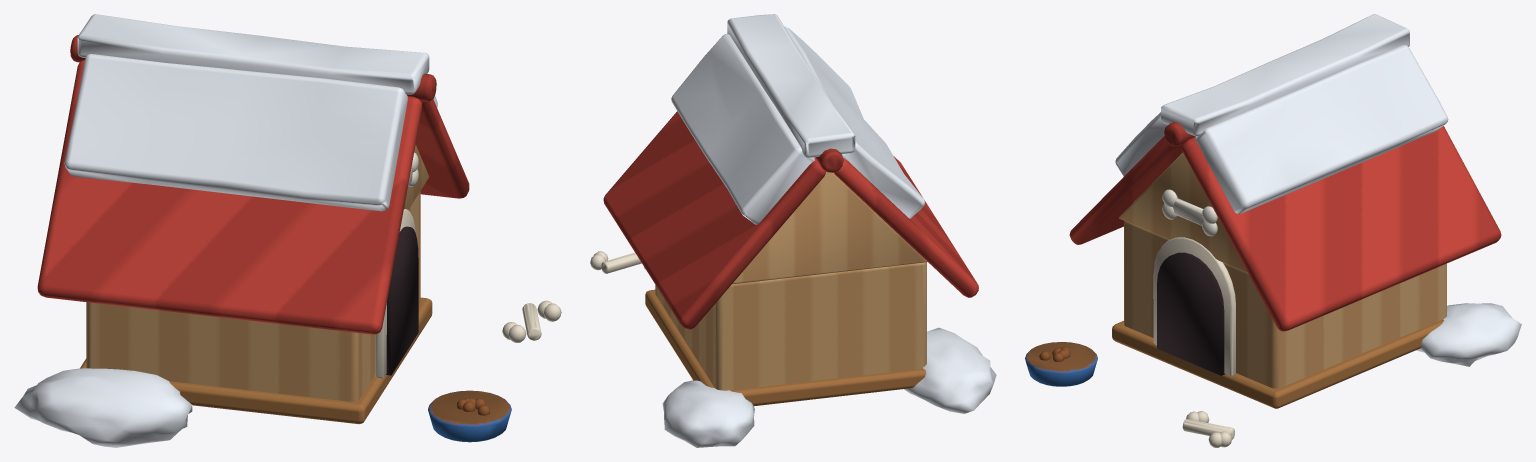
The model's file is dog_house.glb.
The picture shows the model from 3 angles, left to right: view 1: azimuth 30°, elevation 25°; view 2: azimuth 150°, elevation 25°; view 3: azimuth 270°, elevation 25°; orthographic projection. The views are drawn at different scales.
Parts seen in each view (by area): view 1: base; view 2: base; view 3: base.
Boxes of the visible parts, box(x1,y1,x2,y2) form: base: box(14, 14, 561, 447); base: box(590, 14, 996, 447); base: box(1025, 14, 1521, 447).
Bounding box in the file's own units: 1.85 × 1.23 × 1.86.
1 material, 1 textured.
